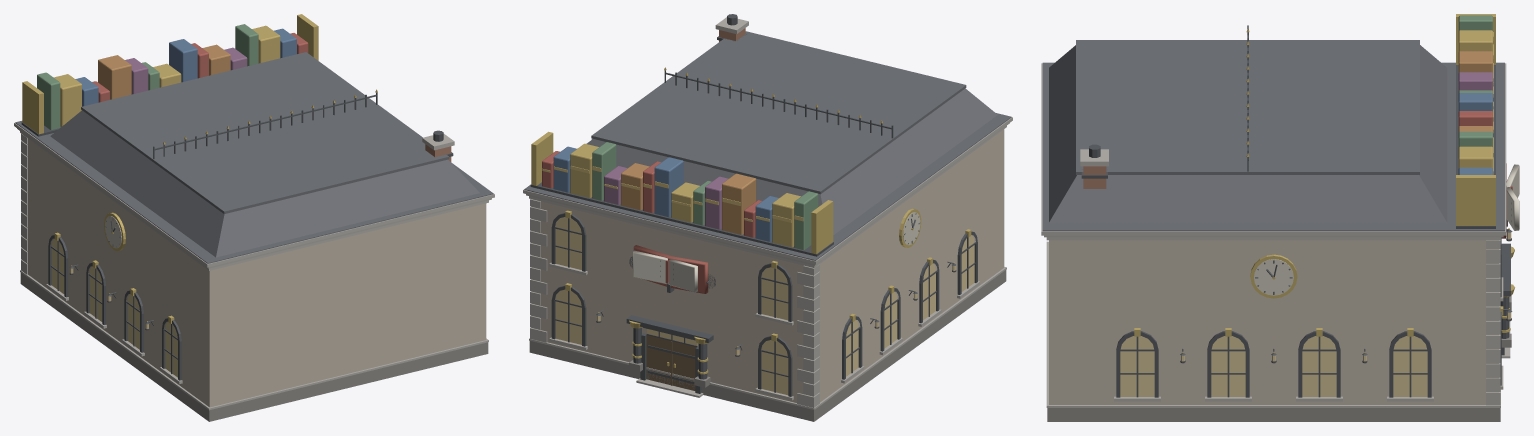
File: centro-biblioteca-d305e227.glb
3 renders of one model, left to right at view 1: azimuth 30°, elevation 25°; view 2: azimuth 150°, elevation 25°; view 3: azimuth 270°, elevation 25°, orthographic. The views are drawn at different scales.
Visible parts, largest first — view 1: centro_biblioteca_body, centro_biblioteca_wall, centro_biblioteca_lamp; view 2: centro_biblioteca_body, centro_biblioteca_wall, centro_biblioteca_lamp, centro_biblioteca_glow; view 3: centro_biblioteca_body, centro_biblioteca_wall, centro_biblioteca_lamp, centro_biblioteca_glow.
Boxes of the visible parts, left/top/right/bottom form: centro_biblioteca_body: left=14, top=14, right=494, bottom=410; centro_biblioteca_wall: left=20, top=138, right=488, bottom=421; centro_biblioteca_lamp: left=51, top=239, right=177, bottom=377; centro_biblioteca_body: left=523, top=14, right=1012, bottom=409; centro_biblioteca_wall: left=529, top=28, right=1006, bottom=421; centro_biblioteca_lamp: left=555, top=217, right=974, bottom=395; centro_biblioteca_glow: left=633, top=245, right=708, bottom=293; centro_biblioteca_body: left=1041, top=14, right=1514, bottom=407; centro_biblioteca_wall: left=1047, top=166, right=1500, bottom=421; centro_biblioteca_lamp: left=1120, top=232, right=1511, bottom=396; centro_biblioteca_glow: left=1501, top=163, right=1519, bottom=238.
Size of the model in its own units: 14.21 by 9.9 by 16.68.
